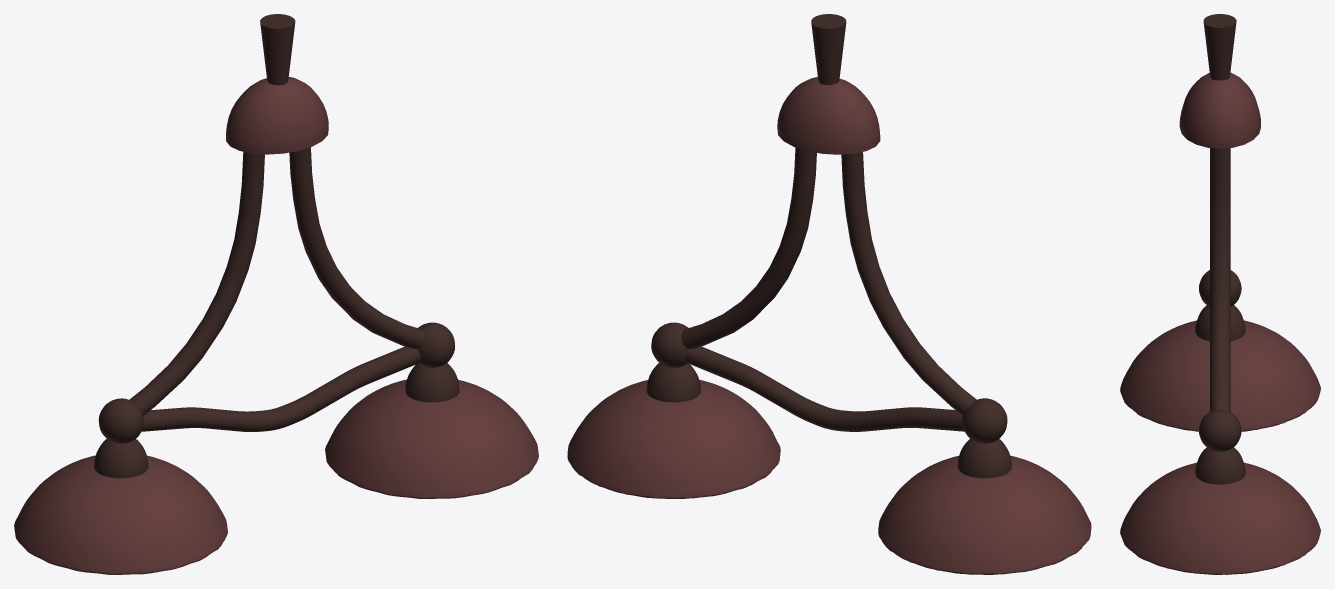
Rendered from Lustre4_5.fbx.
3 renders of one model, left to right at view 1: azimuth 30°, elevation 25°; view 2: azimuth 150°, elevation 25°; view 3: azimuth 270°, elevation 25°, orthographic. The views are drawn at different scales.
Parts seen in each view (by area): view 1: pSphere158, pSphere159, pCylinder1322, pSphere154, pCylinder1325, pCylinder1323, pCylinder1324, pSphere156, pSphere157, pSphere153, pSphere160; view 2: pSphere159, pSphere158, pCylinder1322, pSphere154, pCylinder1325, pCylinder1323, pCylinder1324, pSphere156, pSphere157, pSphere153, pSphere160; view 3: pSphere158, pSphere159, pCylinder1323, pSphere154, pCylinder1324, pSphere157, pSphere160, pSphere156, pSphere153.
Part boxes in pixels (x1=…): pSphere158: x1=325, y1=379, x2=538, y2=498; pSphere159: x1=14, y1=455, x2=227, y2=574; pCylinder1322: x1=129, y1=151, x2=264, y2=415; pSphere154: x1=226, y1=77, x2=328, y2=154; pCylinder1325: x1=142, y1=346, x2=421, y2=431; pCylinder1323: x1=289, y1=147, x2=425, y2=348; pCylinder1324: x1=260, y1=14, x2=295, y2=85; pSphere156: x1=94, y1=439, x2=148, y2=478; pSphere157: x1=405, y1=363, x2=459, y2=402; pSphere153: x1=98, y1=398, x2=143, y2=443; pSphere160: x1=417, y1=322, x2=454, y2=367; pSphere159: x1=878, y1=455, x2=1091, y2=574; pSphere158: x1=567, y1=380, x2=780, y2=498; pCylinder1322: x1=841, y1=152, x2=976, y2=415; pSphere154: x1=777, y1=77, x2=880, y2=154; pCylinder1325: x1=685, y1=346, x2=964, y2=431; pCylinder1323: x1=681, y1=147, x2=816, y2=348; pCylinder1324: x1=811, y1=14, x2=846, y2=85; pSphere156: x1=957, y1=439, x2=1011, y2=478; pSphere157: x1=646, y1=363, x2=700, y2=402; pSphere153: x1=962, y1=398, x2=1007, y2=443; pSphere160: x1=651, y1=322, x2=688, y2=367; pSphere158: x1=1120, y1=462, x2=1320, y2=574; pSphere159: x1=1120, y1=320, x2=1320, y2=431; pCylinder1323: x1=1210, y1=148, x2=1230, y2=411; pSphere154: x1=1179, y1=72, x2=1260, y2=148; pCylinder1324: x1=1203, y1=14, x2=1236, y2=80; pSphere157: x1=1195, y1=447, x2=1245, y2=484; pSphere160: x1=1199, y1=409, x2=1241, y2=451; pSphere156: x1=1195, y1=305, x2=1245, y2=341; pSphere153: x1=1199, y1=270, x2=1241, y2=306.
Size of the model in its own units: 44.79 by 41.96 by 16.74.
